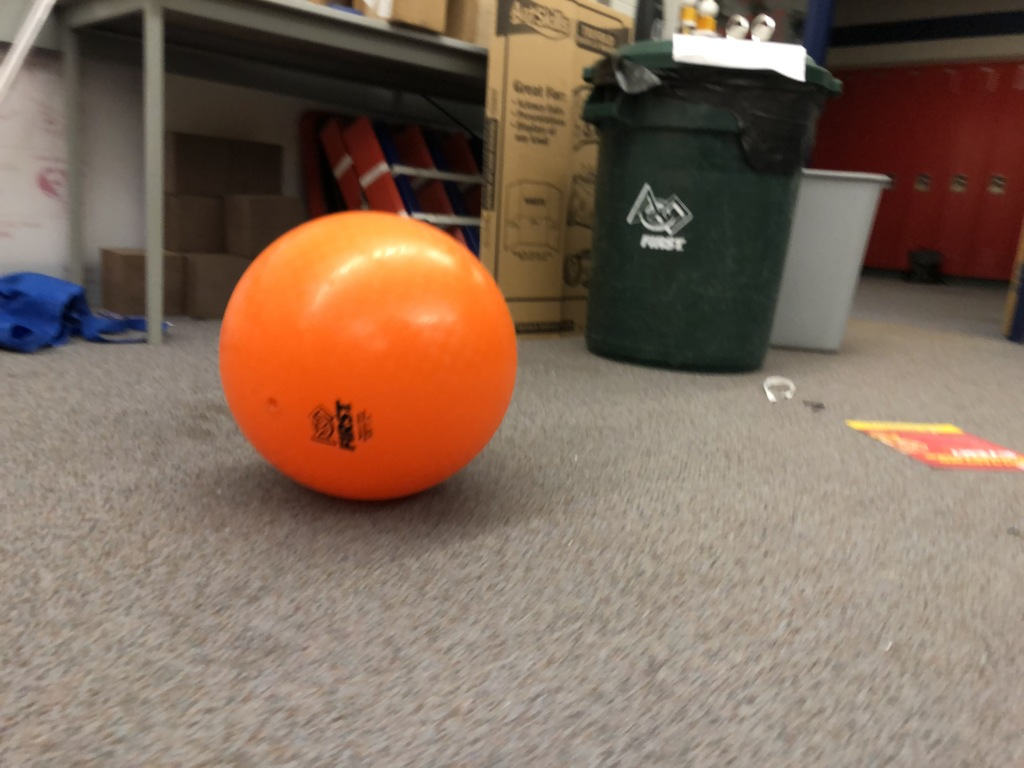cargo: (209, 200, 523, 507)
